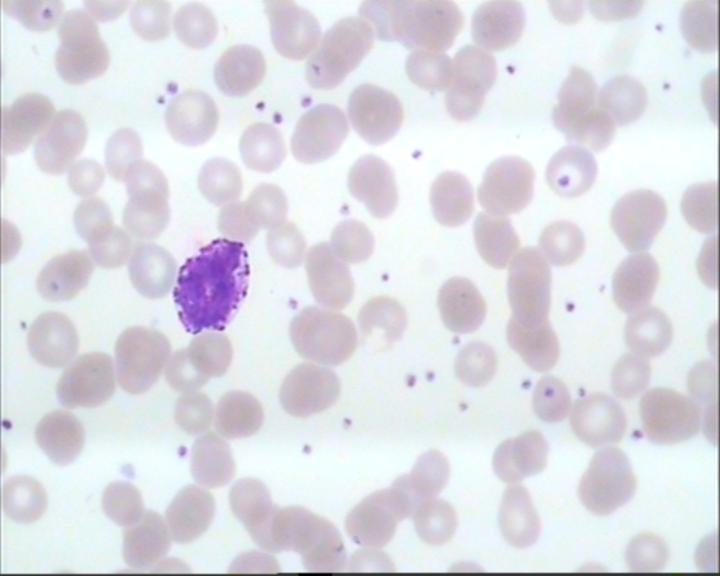baso: (165, 229, 254, 338)
